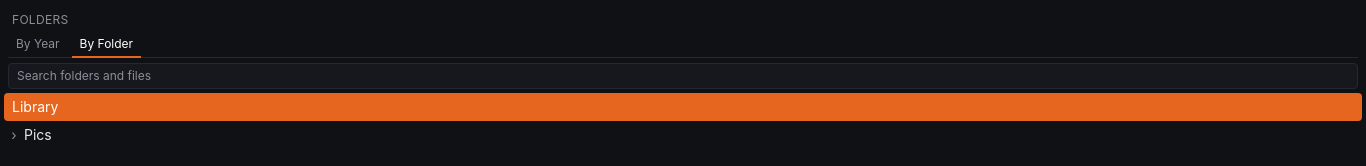
Test case: FoldersSection › search matching a folder name keeps that branch
The image size is (1366, 166).
Type "family" into the search field at coordinates (683, 76), box x1=8 y1=63 x2=1358 y2=89
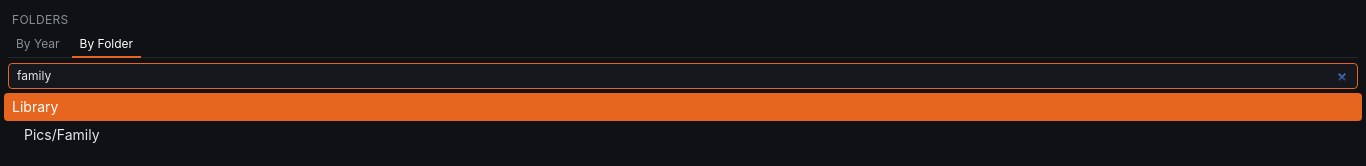
Result: the button "Pics/Family" is shown at x1=24 y1=121 x2=1362 y2=149
